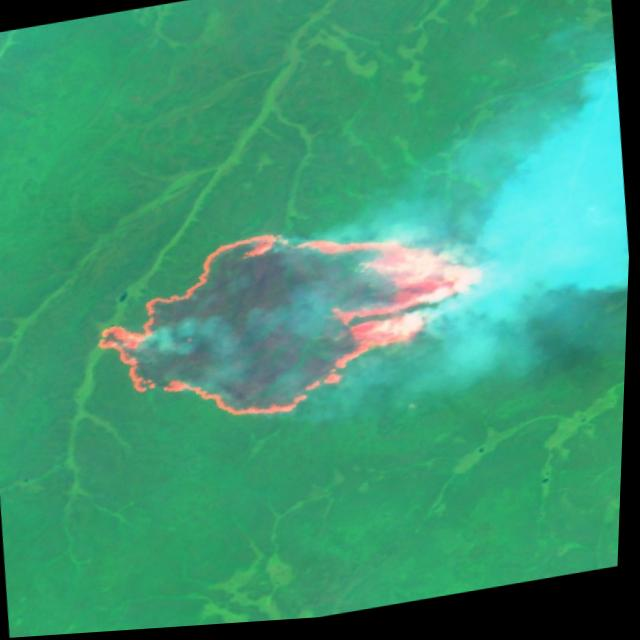fire: (76, 194, 507, 453)
